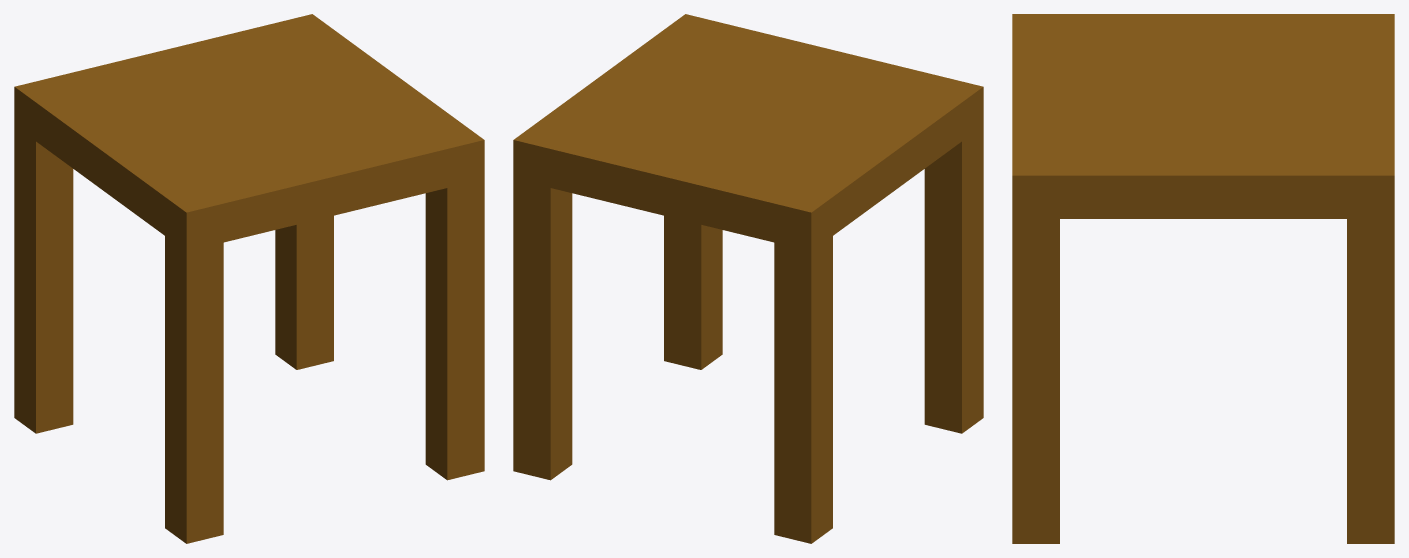
Rendered from Coffee Table-0-Coffee Table.obj.
3 views of the same model, side by side, from view 1: azimuth 30°, elevation 25°; view 2: azimuth 150°, elevation 25°; view 3: azimuth 270°, elevation 25° (orthographic). The views are drawn at different scales.
Parts seen in each view (by area): view 1: Coffee Table; view 2: Coffee Table; view 3: Coffee Table.
Boxes of the visible parts, x1,y1,x2,y2 form: Coffee Table: (14,14,484,543); Coffee Table: (513,14,983,543); Coffee Table: (1012,14,1394,543).
Size of the model in its own units: 1.6 by 1.7 by 1.6.
Materials: 1 (1 with a texture image).
